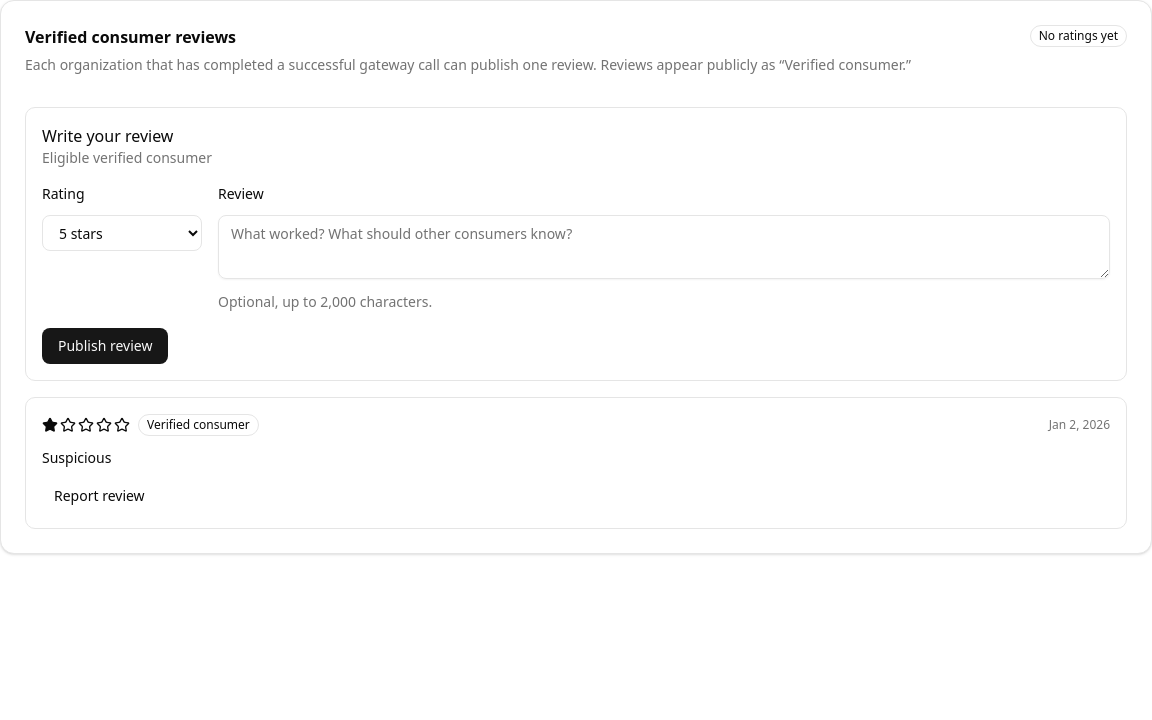
Test: quality and real review surface › keeps report failure associated inside modal and focuses it
The width and height of the screenshot is (1152, 720).
Click the button "Report review".
click(99, 496)  # box [42,480,157,512]
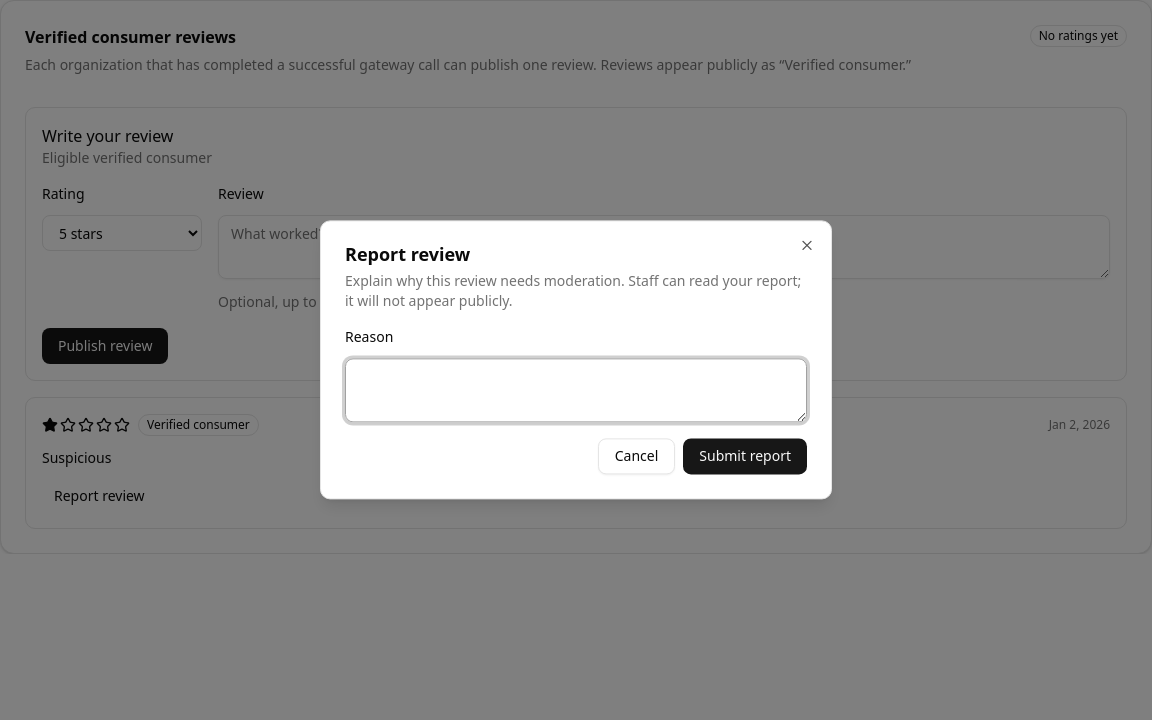
Type "This review contains abusive content" into the text box labelled "Reason".
click(576, 391); type("This review contains abusive content")  # box [345,359,807,423]
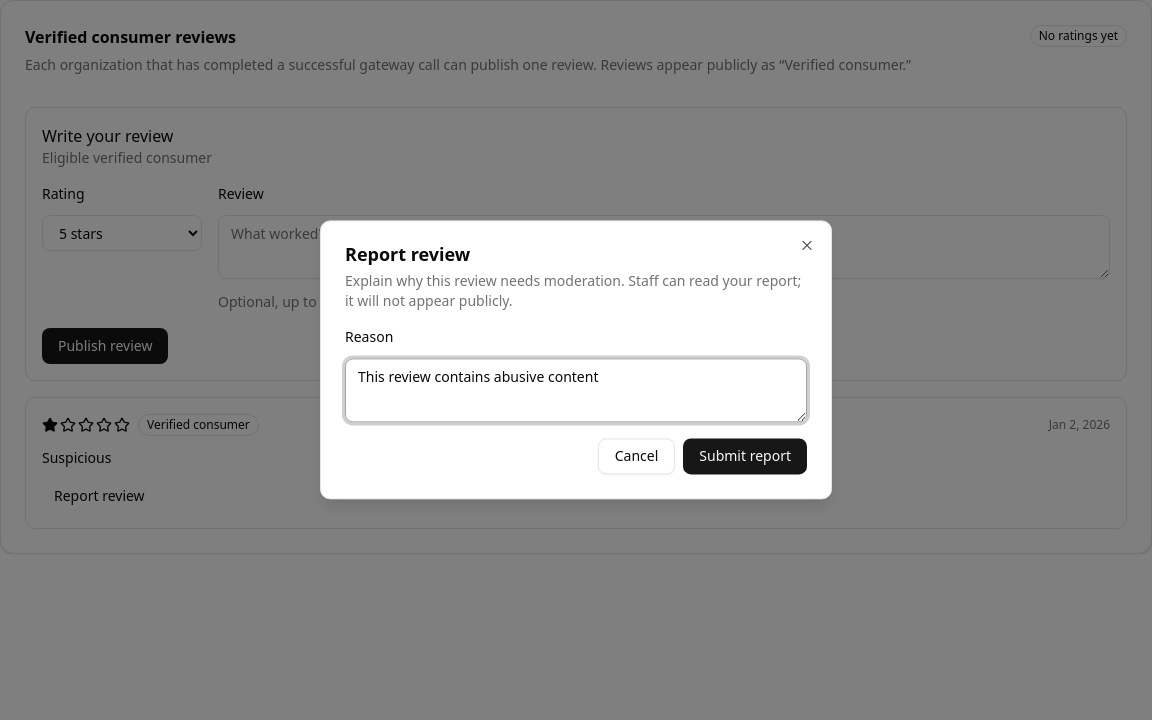
Click the button "Submit report".
click(745, 457)  # box [683,439,807,475]
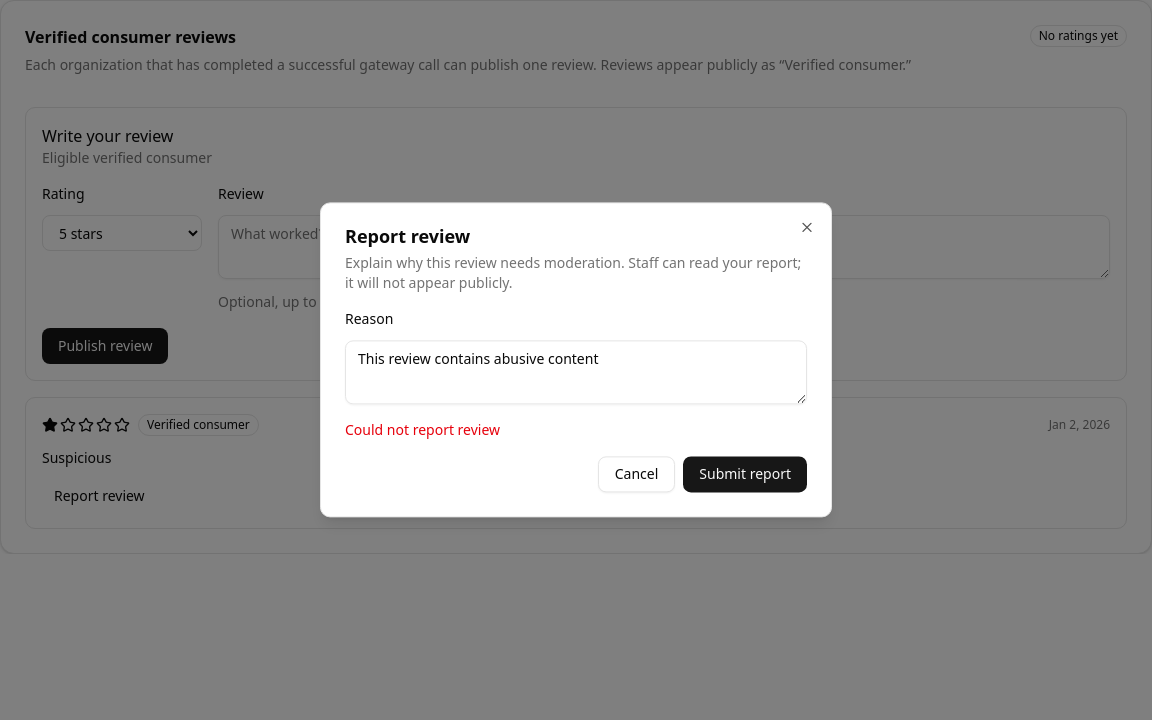
Now the message reads "Could not report review", box [345,421,500,440]
